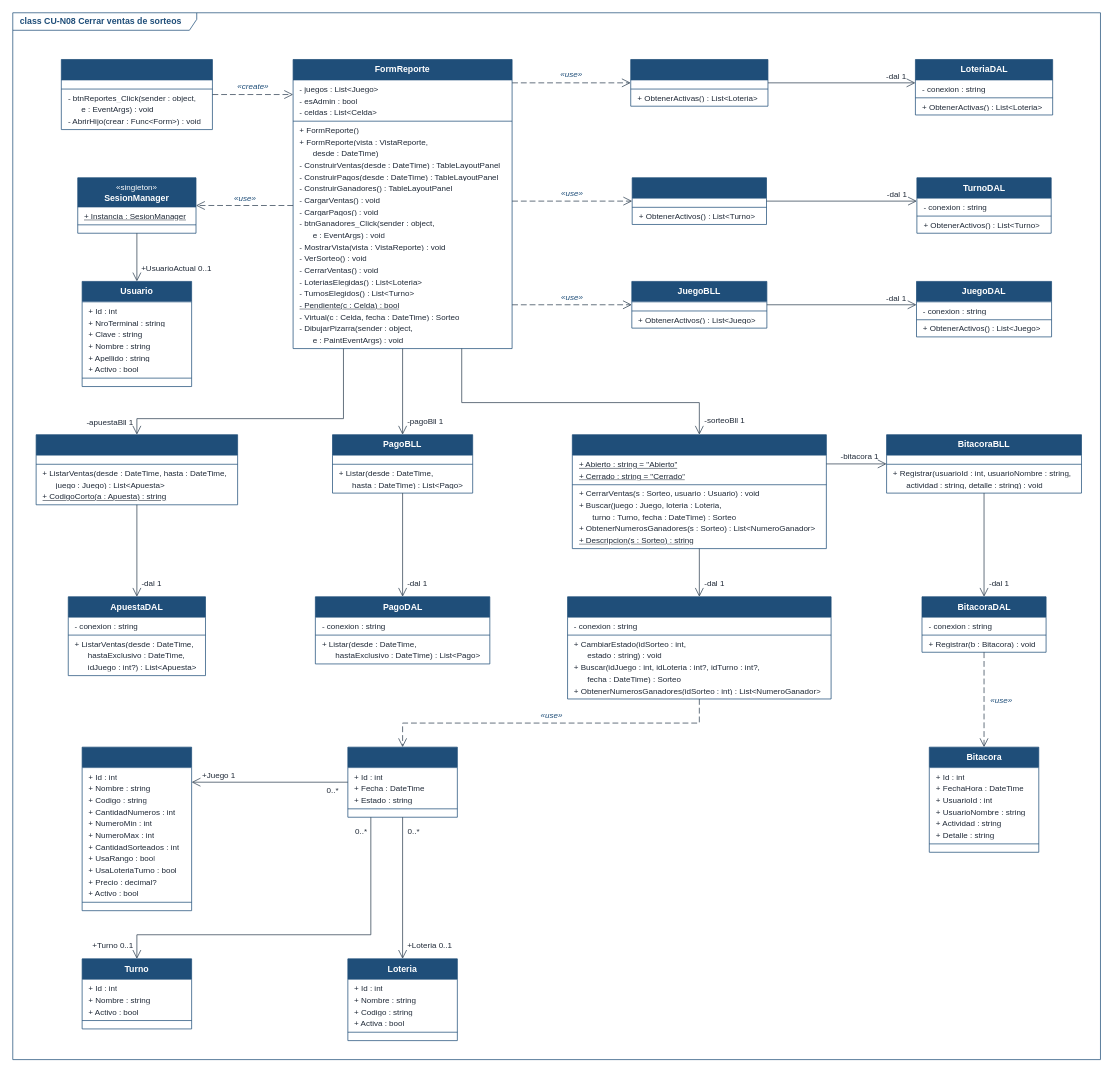
Image size: 1113x1072. Some labels were removed from this diagram. Each missing label, with the box of its shape:
ApuestaBLL: (35, 434, 238, 505)
FormPrincipal: (61, 59, 212, 130)
Juego: (81, 746, 192, 911)
LoteriaBLL: (630, 59, 768, 106)
Sorteo: (347, 746, 457, 817)
SorteoBLL: (572, 434, 826, 549)
SorteoDAL: (567, 596, 831, 699)
TurnoBLL: (631, 177, 766, 224)
